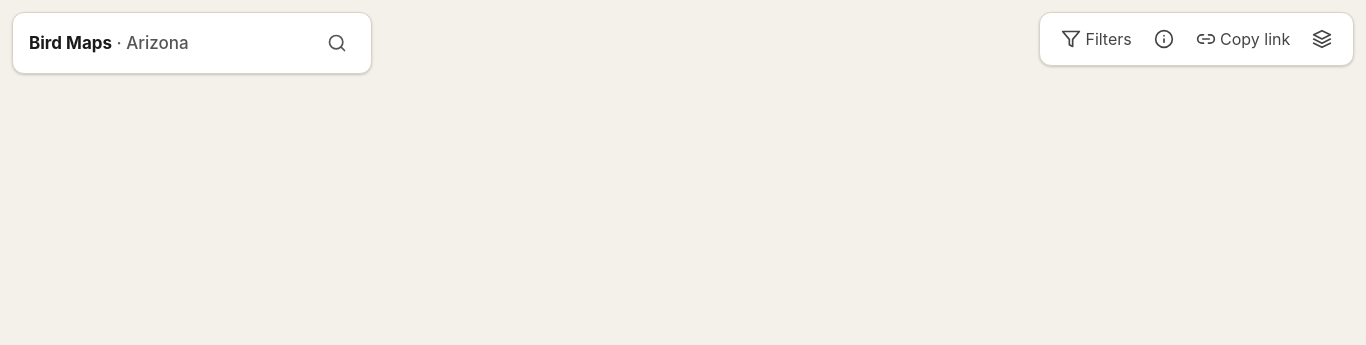
<AppHeader> › opening the theme popover closes an open scope disclosure (no two header popovers open)
The width and height of the screenshot is (1366, 345).
Click the button named "change region" at (337, 43), box 319,25 -> 355,61
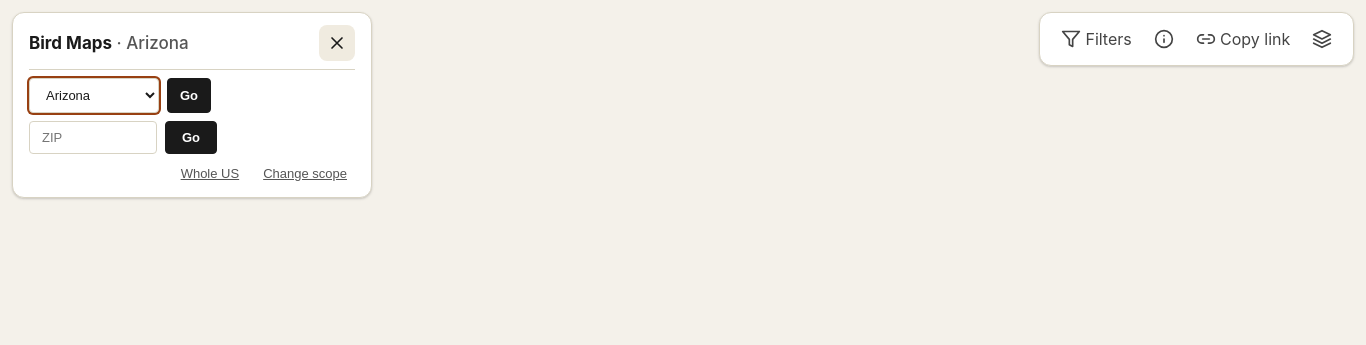
Expected: the button named "change region" is expanded, 319,25 -> 355,61
# Now open the theme popover — the scope disclosure must collapse.
Click the button named "Map theme:" at (1322, 39), box 1303,21 -> 1341,57
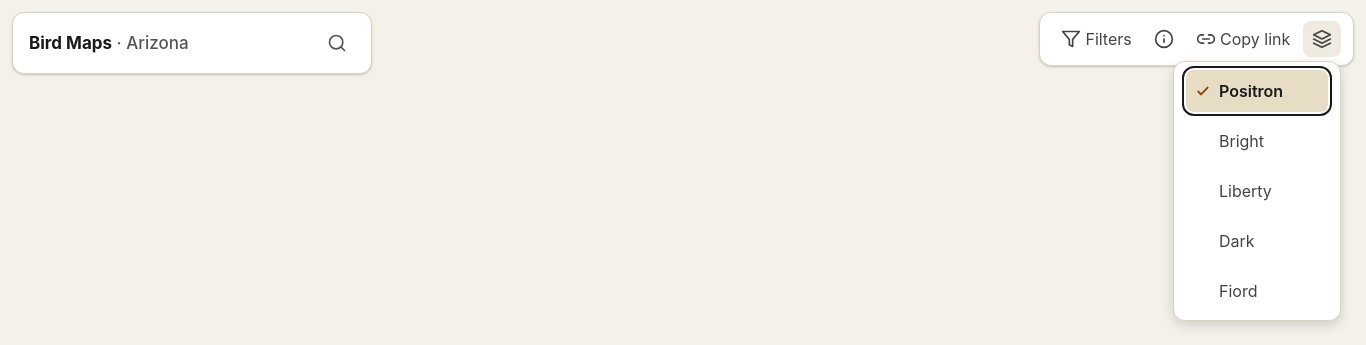
Expected: the element named "Map theme" is shown, 1186,70 -> 1328,312
Expected: the button named "change region" is collapsed, 319,25 -> 355,61
